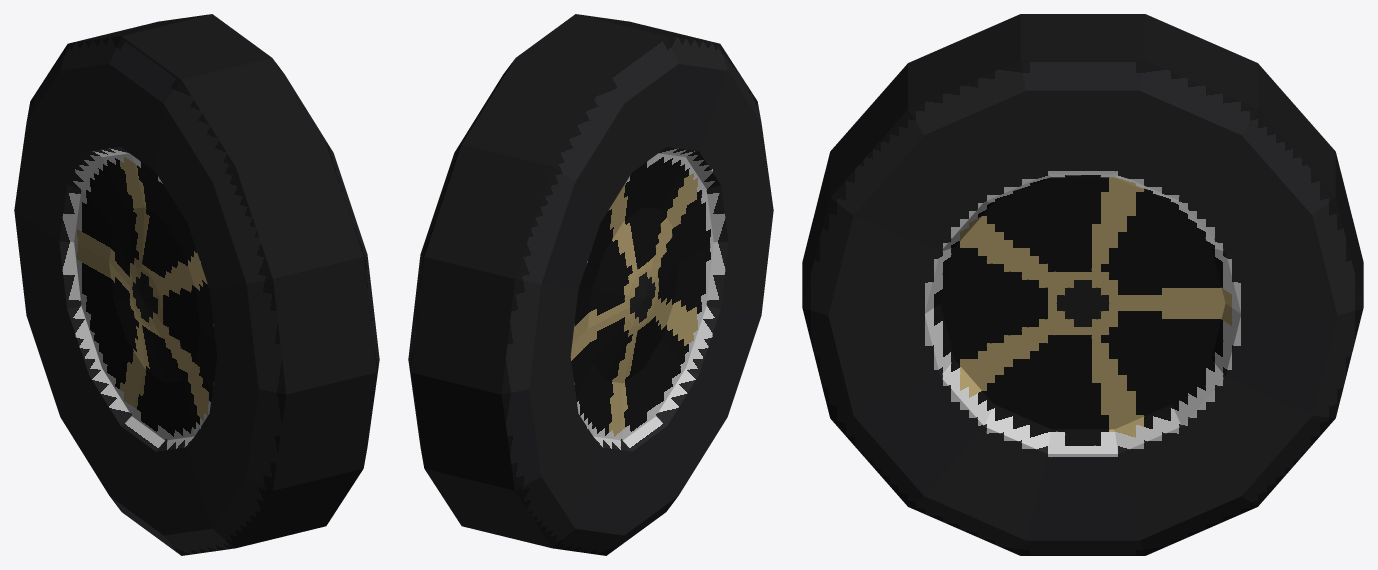
The model's file is wheel_campagnolo_l.glb.
The picture shows the model from 3 angles, left to right: view 1: azimuth 30°, elevation 25°; view 2: azimuth 150°, elevation 25°; view 3: azimuth 270°, elevation 25°; orthographic projection. The views are drawn at different scales.
Parts seen in each view (by area): view 1: Wheel; view 2: Wheel; view 3: Wheel.
Part boxes in pixels (left/top/right/bottom): Wheel: left=14, top=14, right=379, bottom=555; Wheel: left=408, top=14, right=773, bottom=555; Wheel: left=802, top=14, right=1363, bottom=555.
Size of the model in its own units: 0.14 by 0.5265 by 0.54.
2 materials, 1 textured.
